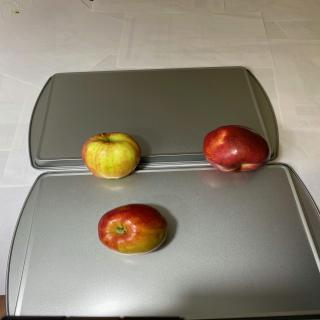Apple: (97, 203, 168, 256), (203, 124, 271, 172), (81, 132, 141, 179)
